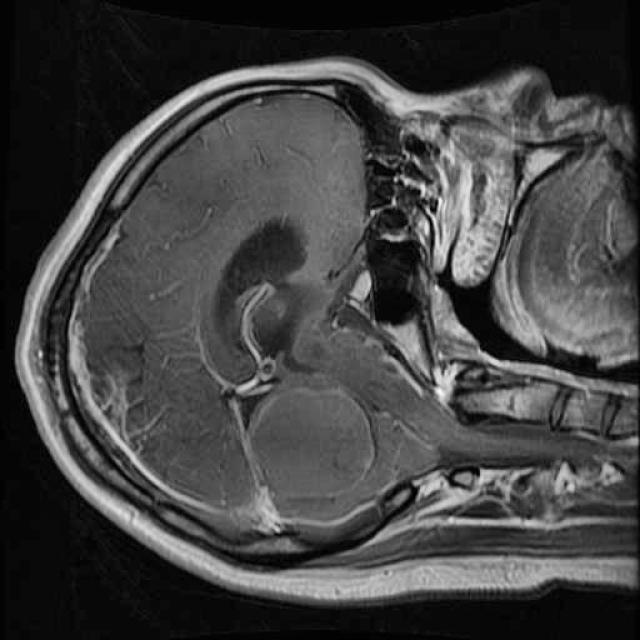Tumor: (230, 352, 401, 552)
